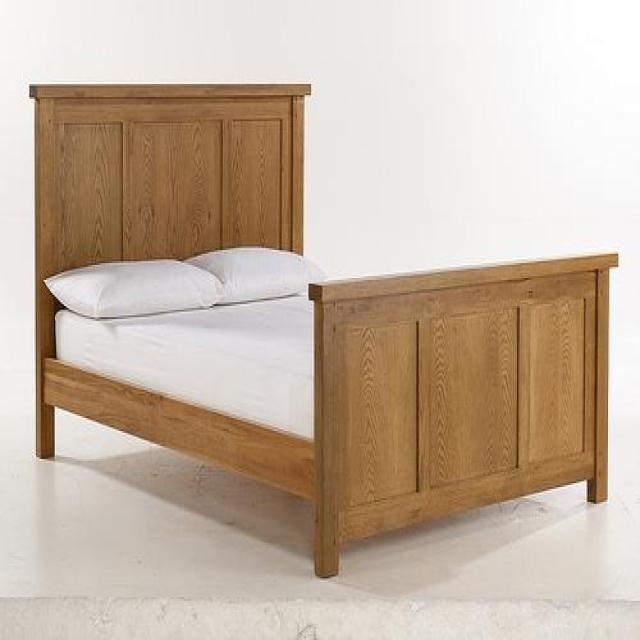bed: (28, 81, 618, 578)
